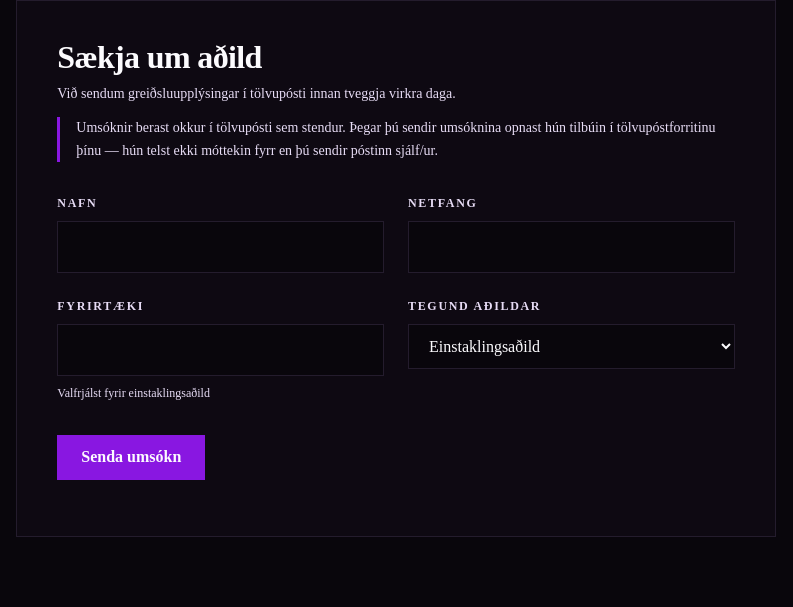
Test case: MembershipForm (is) › clears a field error as the field is corrected
This screenshot has width=793, height=607.
Click the button "Senda umsókn" at (131, 457), box [57, 435, 205, 480]
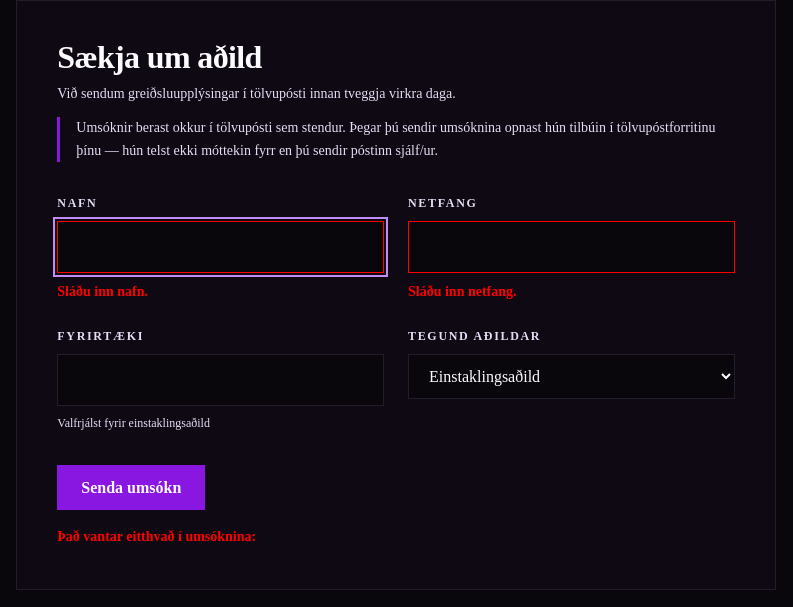
expect the text "Sláðu inn nafn." is shown: met, box [57, 284, 148, 299]
Type "Anna" into the field labelled "Nafn" at (221, 247), box [57, 221, 384, 273]
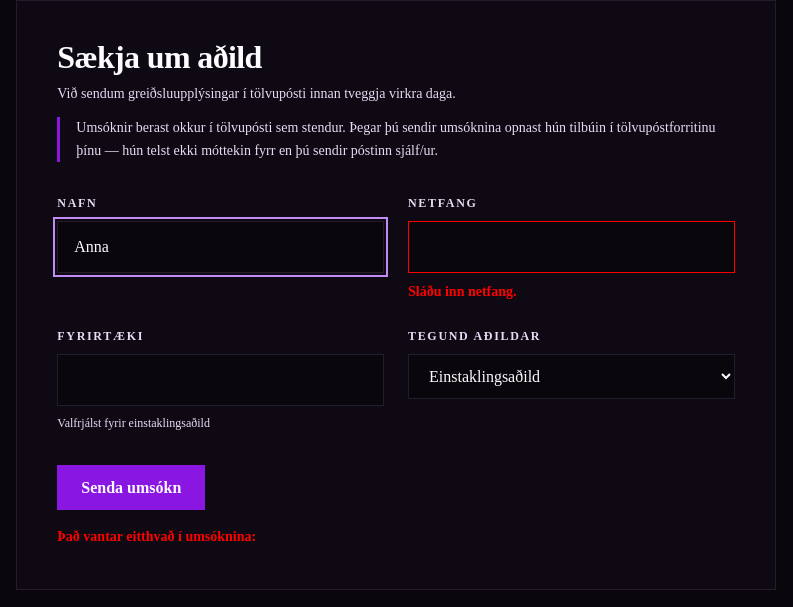
expect the text "Sláðu inn nafn." is gone: met
